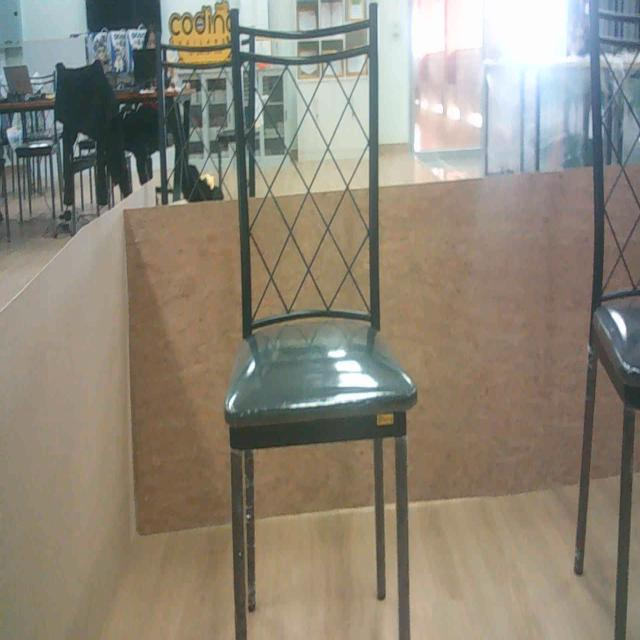emtpy: (229, 0, 434, 640)
